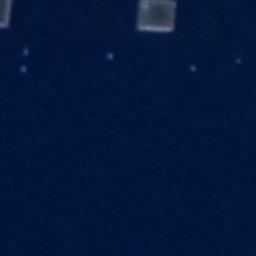square_cover: (133, 1, 182, 37), (1, 1, 20, 30)
